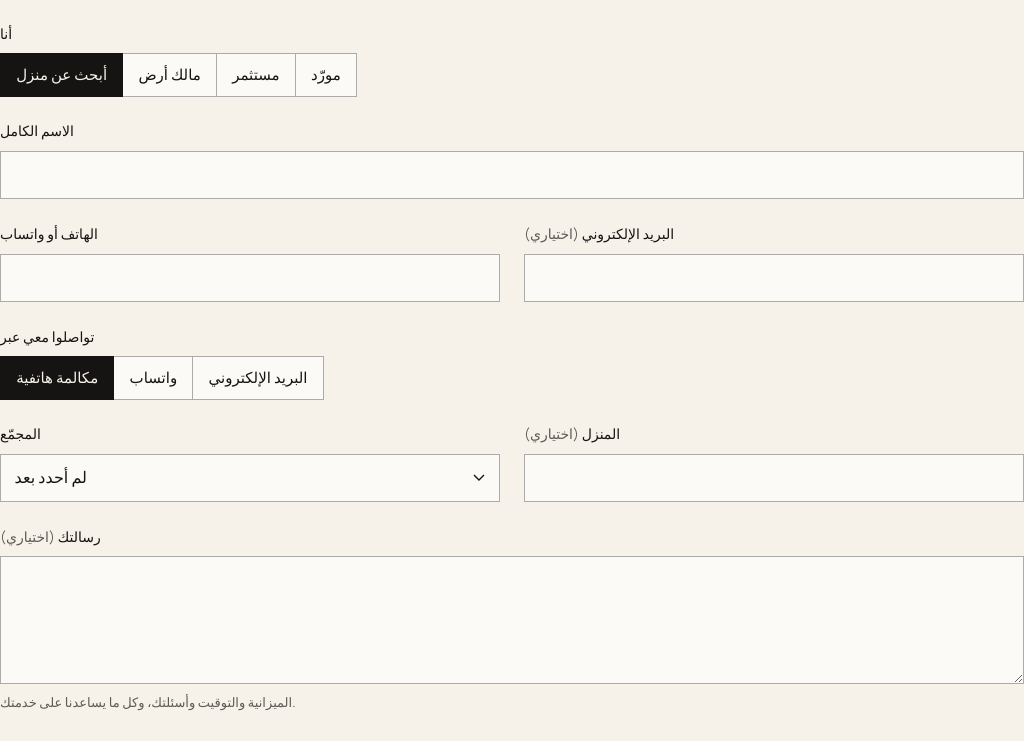
Test case: ContactForm › asks for an email when email is the chosen contact method
The width and height of the screenshot is (1024, 741).
Step 1. Click the radio button labelled "البريد الإلكتروني" → [258, 378], box [192,356,323,399]
(page scrolled)
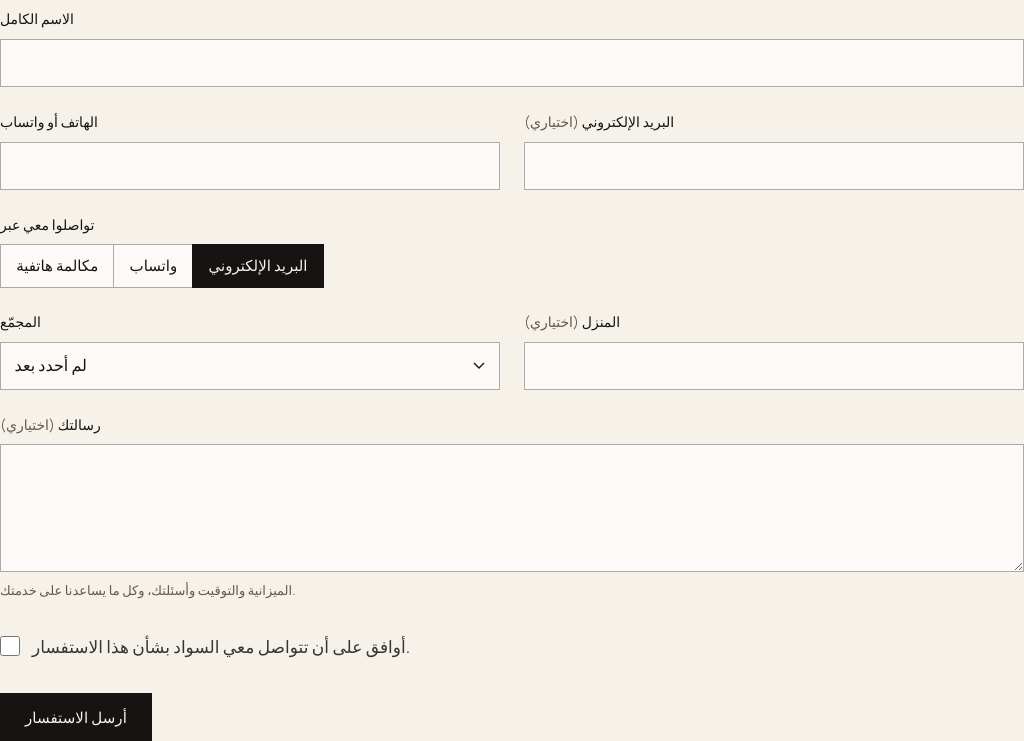
Step 2. Click the button "أرسل الاستفسار" → [76, 717], box [0,693,152,740]
(page scrolled)
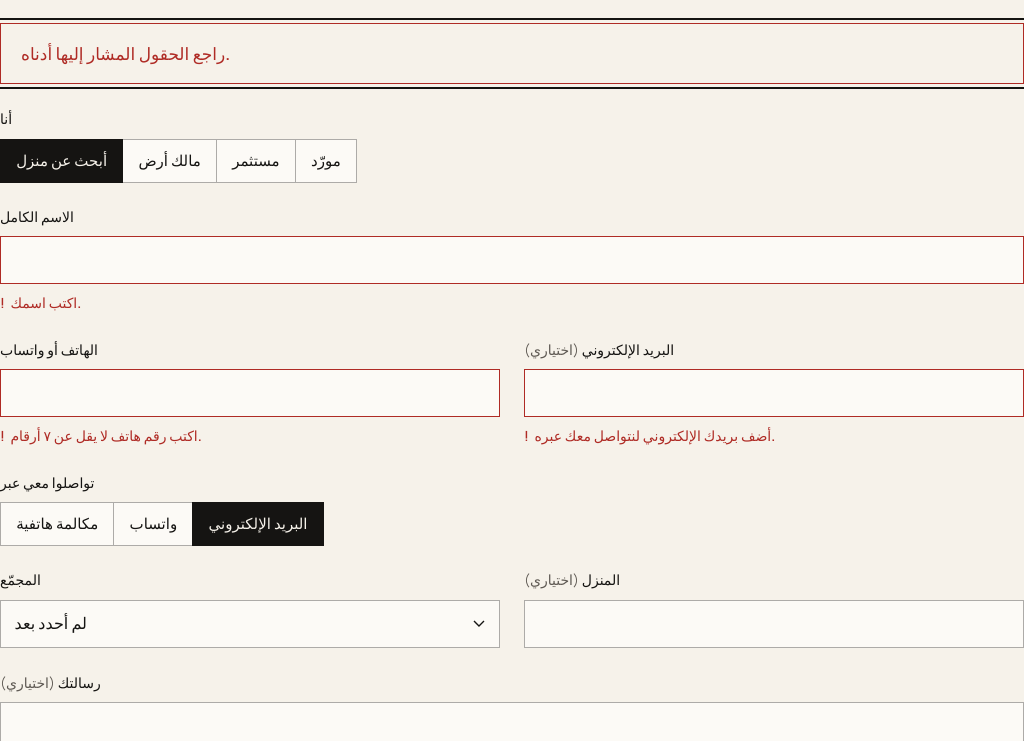
Result: the text "أضف بريدك الإلكتروني لنتواصل معك عبره." is shown at [534,426,775,446]
